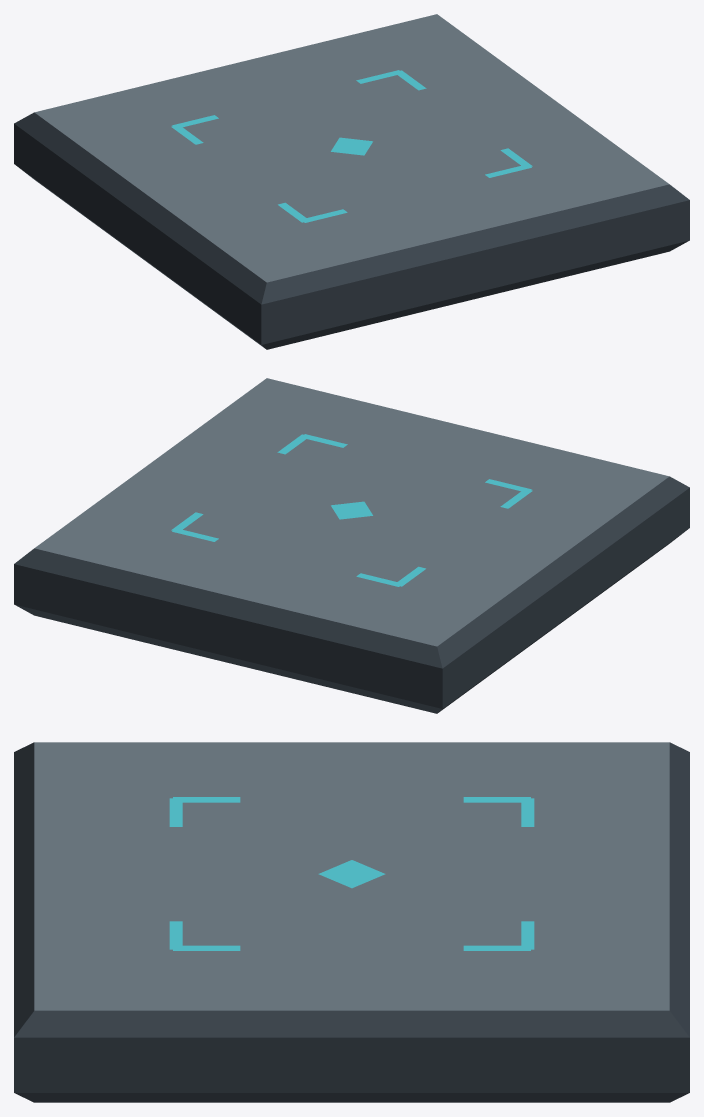
File: 0-20261016-1900-ev040-r07-floor4-lotmarker.fbx
3 renders of one model, top to bottom at view 1: azimuth 30°, elevation 25°; view 2: azimuth 150°, elevation 25°; view 3: azimuth 270°, elevation 25°, orthographic. The views are drawn at different scales.
Parts seen in each view (by area): view 1: SW_Leasing_LotMarker; view 2: SW_Leasing_LotMarker; view 3: SW_Leasing_LotMarker.
Part boxes in pixels (bbox=[...]): SW_Leasing_LotMarker: bbox=[14, 14, 689, 349]; SW_Leasing_LotMarker: bbox=[14, 378, 689, 713]; SW_Leasing_LotMarker: bbox=[14, 742, 689, 1102].
Bounding box in the file's own units: 20 × 3.08 × 20.
